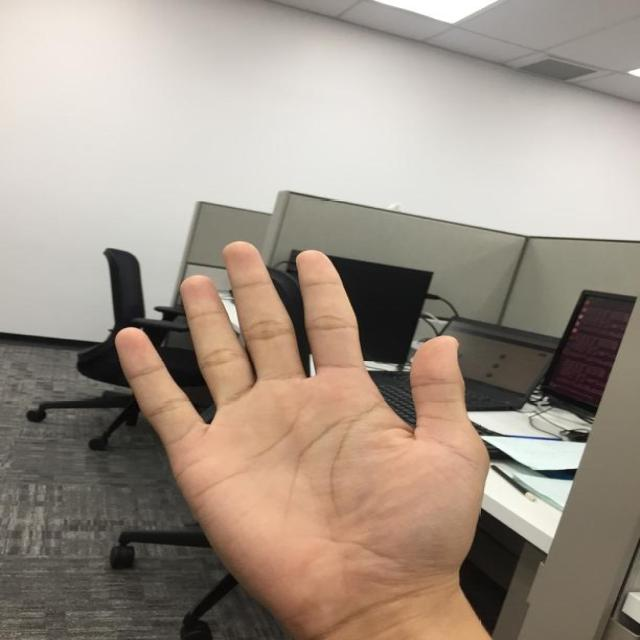hand: (118, 238, 491, 621)
